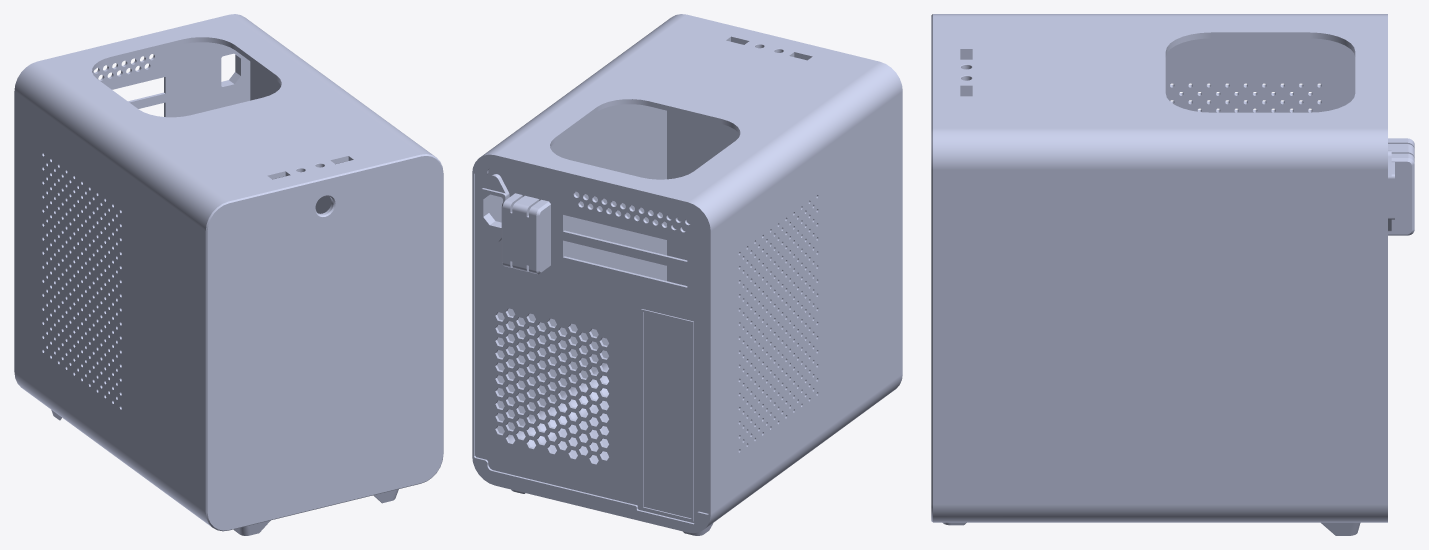
The picture shows the model from 3 angles, left to right: view 1: azimuth 30°, elevation 25°; view 2: azimuth 150°, elevation 25°; view 3: azimuth 270°, elevation 25°; orthographic projection. The views are drawn at different scales.
Visible parts, largest first — view 1: color; view 2: color; view 3: color.
Boxes of the visible parts, x1=… form: color: x1=14, y1=14, x2=443, y2=535; color: x1=472, y1=14, x2=902, y2=535; color: x1=931, y1=14, x2=1414, y2=535.
Bounding box in the file's own units: 0.198 × 0.273 × 0.2933.
